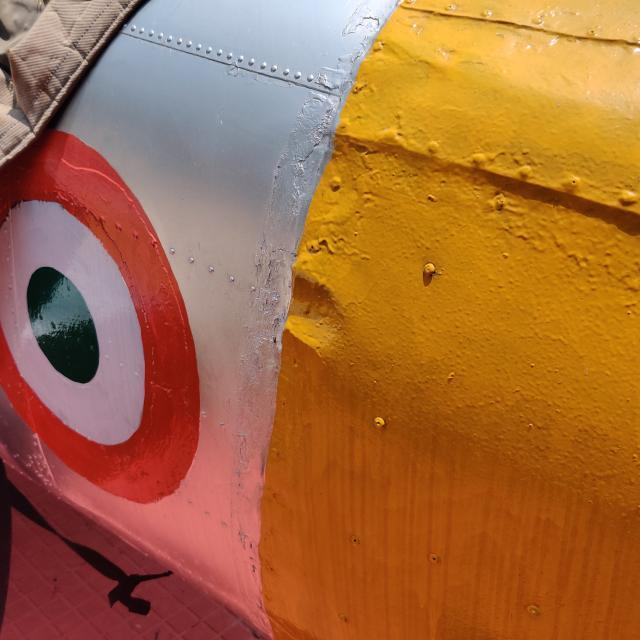dent: (252, 247, 367, 382)
